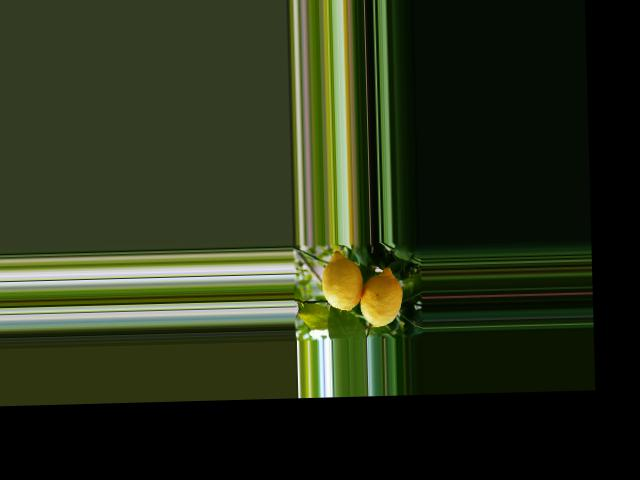lemon: (317, 251, 366, 315)
